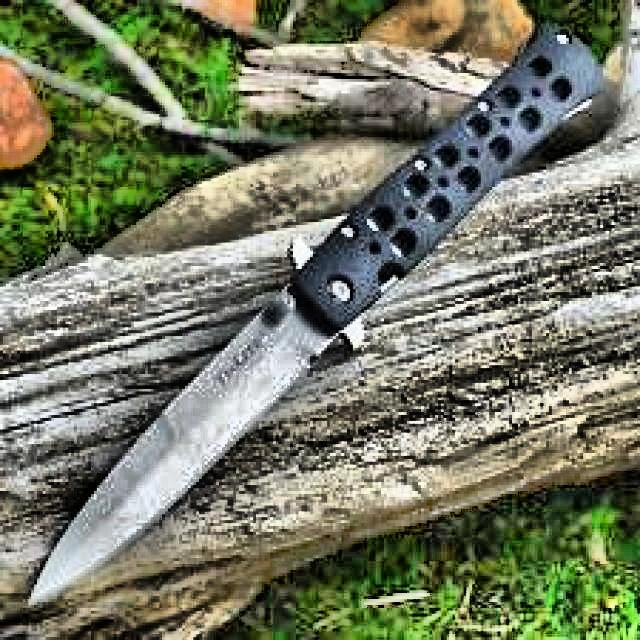knife: (30, 25, 607, 610)
